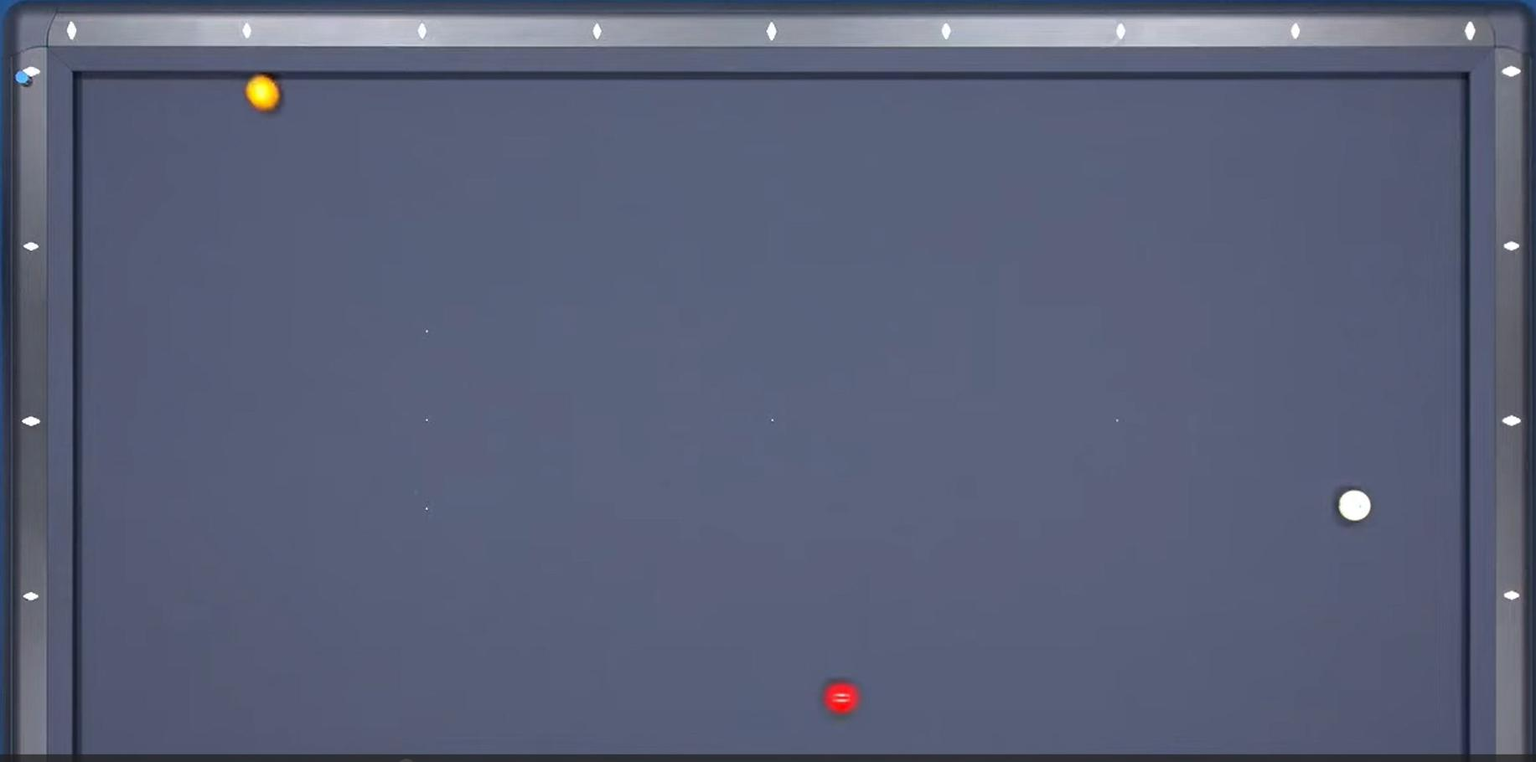red ball: (820, 674, 866, 723)
white ball: (1332, 485, 1377, 527)
yellow ball: (237, 70, 287, 116)
